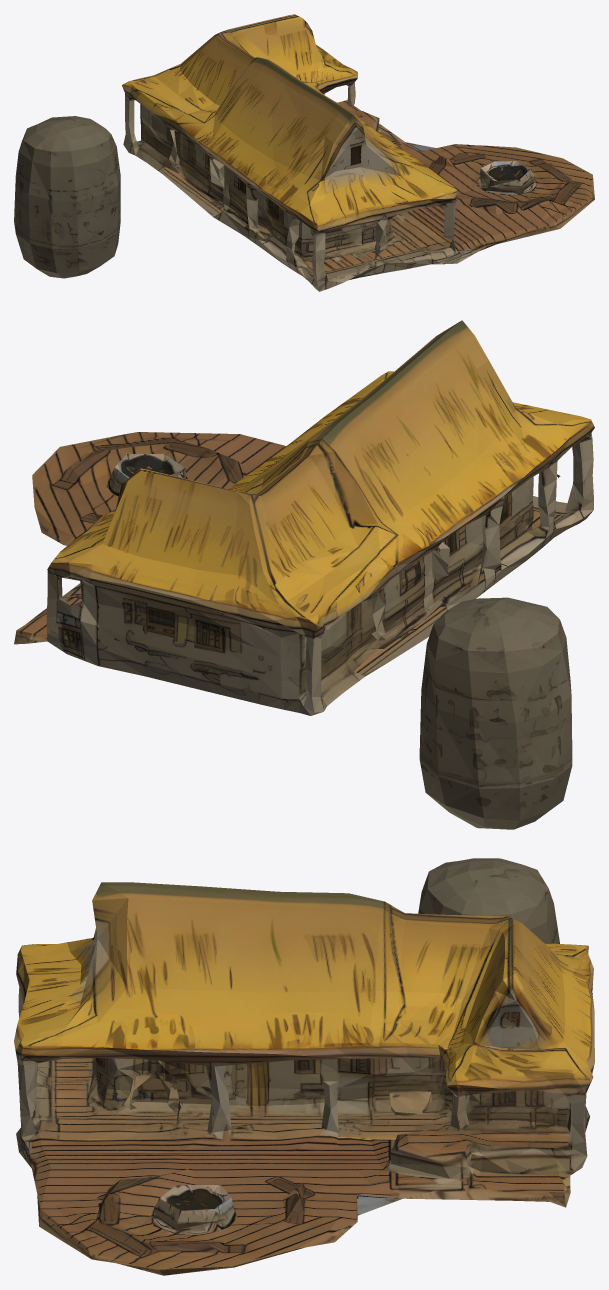
Rendered from Plaashuis.glb.
3 renders of one model, top to bottom at view 1: azimuth 30°, elevation 25°; view 2: azimuth 150°, elevation 25°; view 3: azimuth 270°, elevation 25°, orthographic. The views are drawn at different scales.
Parts seen in each view (by area): view 1: tripo_node_d76ee7b0-e3f4-44d2-bdf2-5b05a9a7538c; view 2: tripo_node_d76ee7b0-e3f4-44d2-bdf2-5b05a9a7538c; view 3: tripo_node_d76ee7b0-e3f4-44d2-bdf2-5b05a9a7538c.
Part boxes in pixels (x1,y1,x2,y2): tripo_node_d76ee7b0-e3f4-44d2-bdf2-5b05a9a7538c: [14, 14, 594, 291]; tripo_node_d76ee7b0-e3f4-44d2-bdf2-5b05a9a7538c: [14, 320, 594, 829]; tripo_node_d76ee7b0-e3f4-44d2-bdf2-5b05a9a7538c: [14, 858, 594, 1275].
Size of the model in its own units: 0.9808 by 0.4392 by 0.7298.
1 material, 1 textured.
